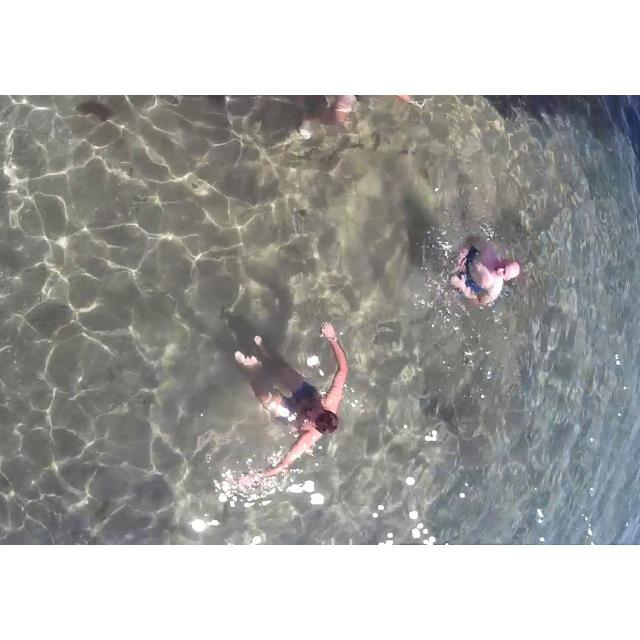human: (240, 305, 350, 491), (444, 219, 520, 319), (306, 95, 418, 140)
